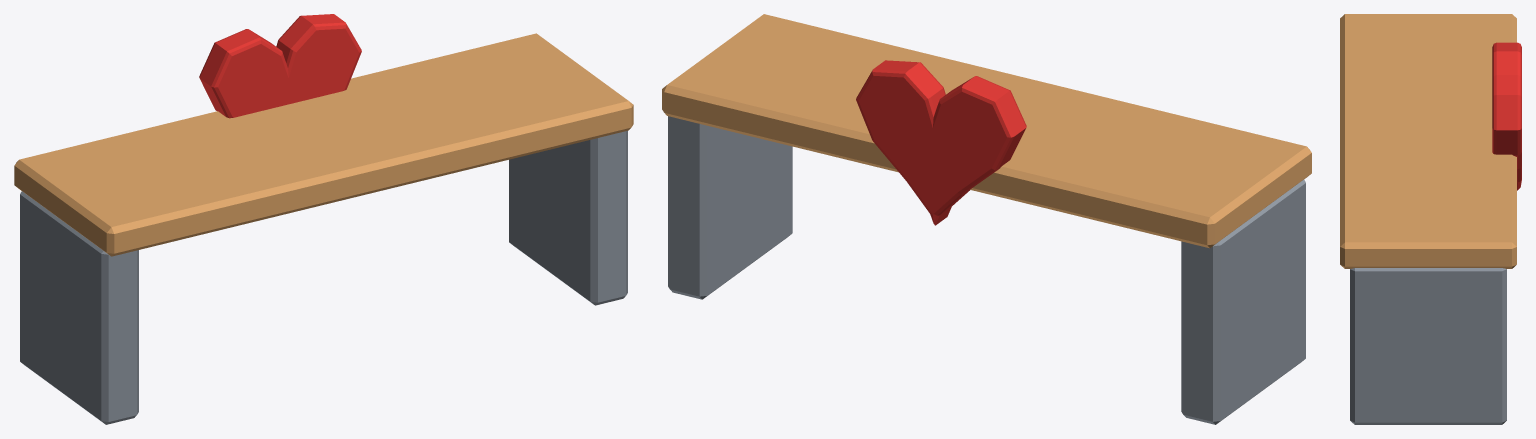
Rendered from LoveBench.fbx.
The picture shows the model from 3 angles, left to right: view 1: azimuth 30°, elevation 25°; view 2: azimuth 150°, elevation 25°; view 3: azimuth 270°, elevation 25°; orthographic projection. The views are drawn at different scales.
Visible parts, largest first — view 1: LoveBench; view 2: LoveBench; view 3: LoveBench.
Boxes of the visible parts, x1,y1,x2,y2 form: LoveBench: (14, 14, 633, 424); LoveBench: (662, 14, 1311, 424); LoveBench: (1340, 14, 1521, 424).
Size of the model in its own units: 5.6 by 2.78 by 1.85.
1 material, 1 textured.
